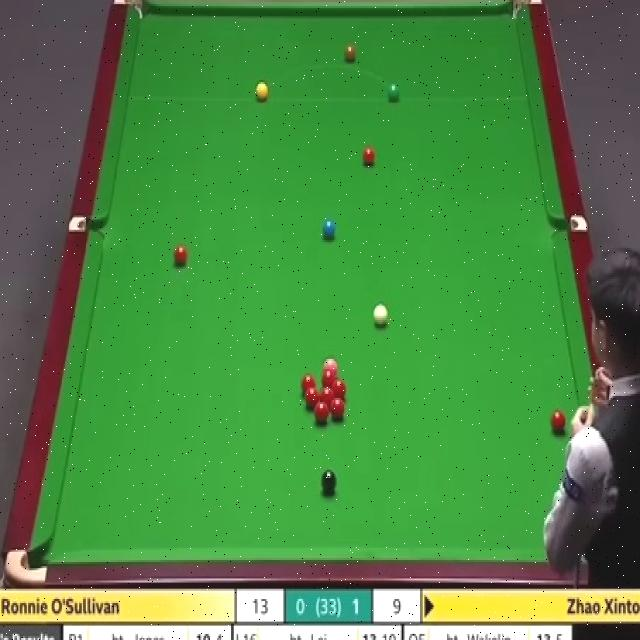black-ball: (320, 468, 336, 497)
blue-ball: (322, 218, 336, 241)
brown-ball: (344, 44, 357, 64)
green-ball: (386, 83, 402, 105)
pink-ball: (322, 356, 339, 369)
red-ball: (550, 409, 566, 436), (330, 399, 345, 422), (173, 246, 188, 269), (315, 401, 329, 423), (332, 378, 345, 401), (301, 374, 315, 395), (322, 368, 338, 386), (362, 146, 376, 166), (319, 386, 334, 403), (305, 389, 319, 407), (255, 521, 255, 521)
white-ball: (371, 304, 390, 329)
yellow-ball: (256, 82, 268, 102)
